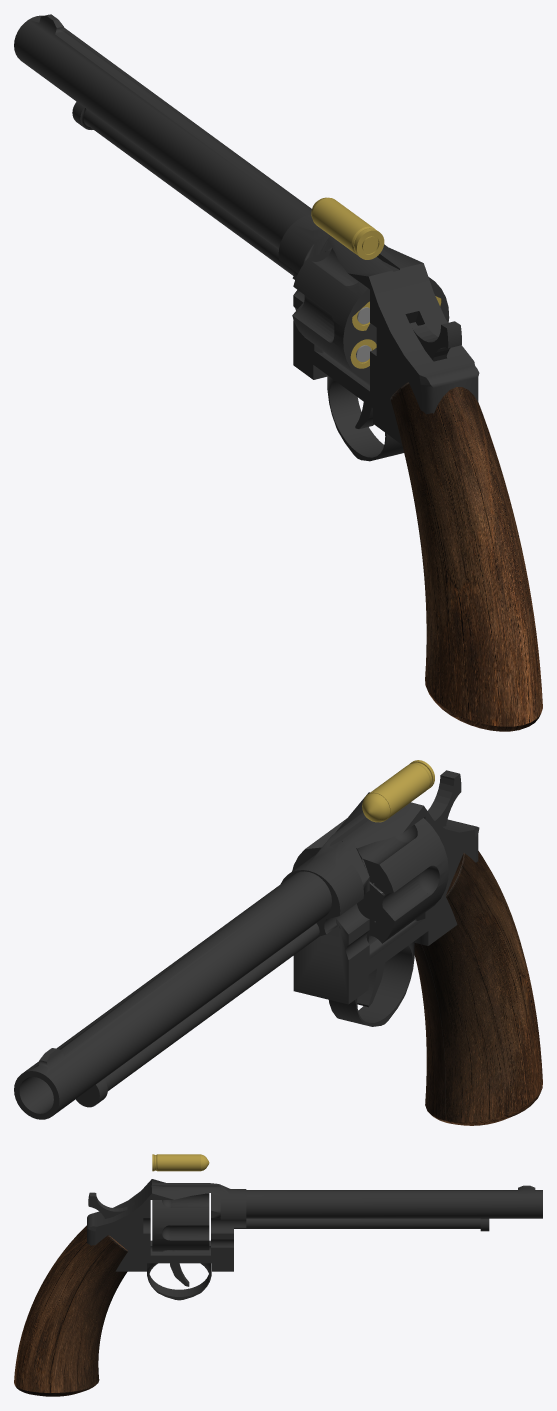
File: Revolver.fbx
3 views of the same model, one above another, from view 1: azimuth 30°, elevation 25°; view 2: azimuth 150°, elevation 25°; view 3: azimuth 270°, elevation 25° (orthographic). The views are drawn at different scales.
Parts seen in each view (by area): view 1: Цилиндр.004, Цилиндр, Цилиндр.003, Цилиндр.012, Куб.001; view 2: Цилиндр.004, Цилиндр, Цилиндр.003, Цилиндр.012, Куб.001; view 3: Цилиндр.004, Цилиндр, Цилиндр.003, Цилиндр.012, Куб.001.
Boxes of the visible parts, <box> form: Цилиндр.004: <box>14,14,479,461</box>; Цилиндр: <box>390,382,542,731</box>; Цилиндр.003: <box>292,244,449,382</box>; Цилиндр.012: <box>311,197,384,259</box>; Куб.001: <box>411,321,461,361</box>; Цилиндр.004: <box>14,792,479,1119</box>; Цилиндр: <box>414,851,542,1125</box>; Цилиндр.003: <box>292,818,448,944</box>; Цилиндр.012: <box>362,760,434,822</box>; Куб.001: <box>428,770,461,826</box>; Цилиндр.004: <box>87,1179,542,1300</box>; Цилиндр: <box>14,1225,128,1396</box>; Цилиндр.003: <box>152,1193,209,1251</box>; Цилиндр.012: <box>152,1154,209,1171</box>; Куб.001: <box>88,1192,128,1218</box>.
Bounding box in the file's own units: 7.7 × 29.08 × 61.19.
